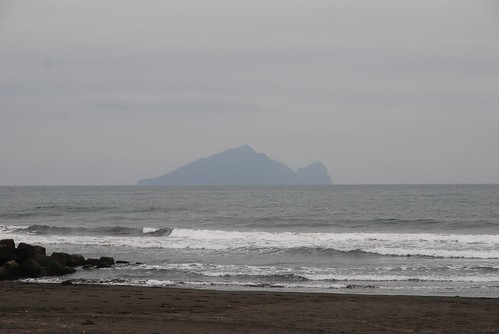turtleIsland: (136, 144, 332, 183)
